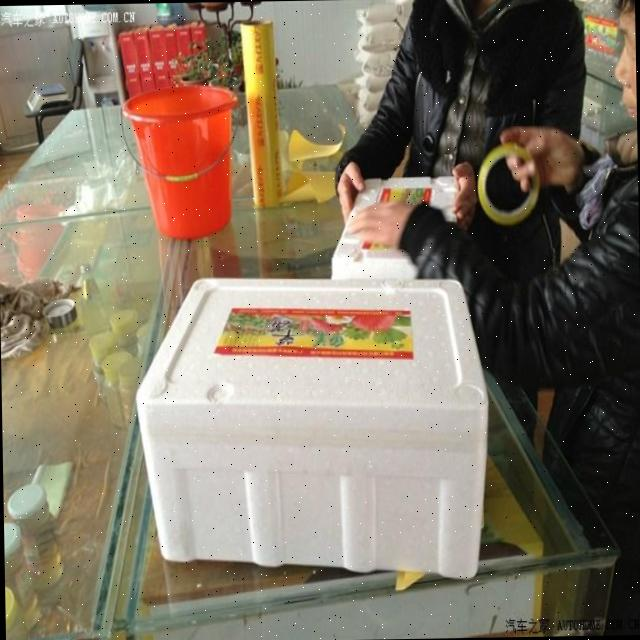styrofoam: (132, 269, 492, 586)
